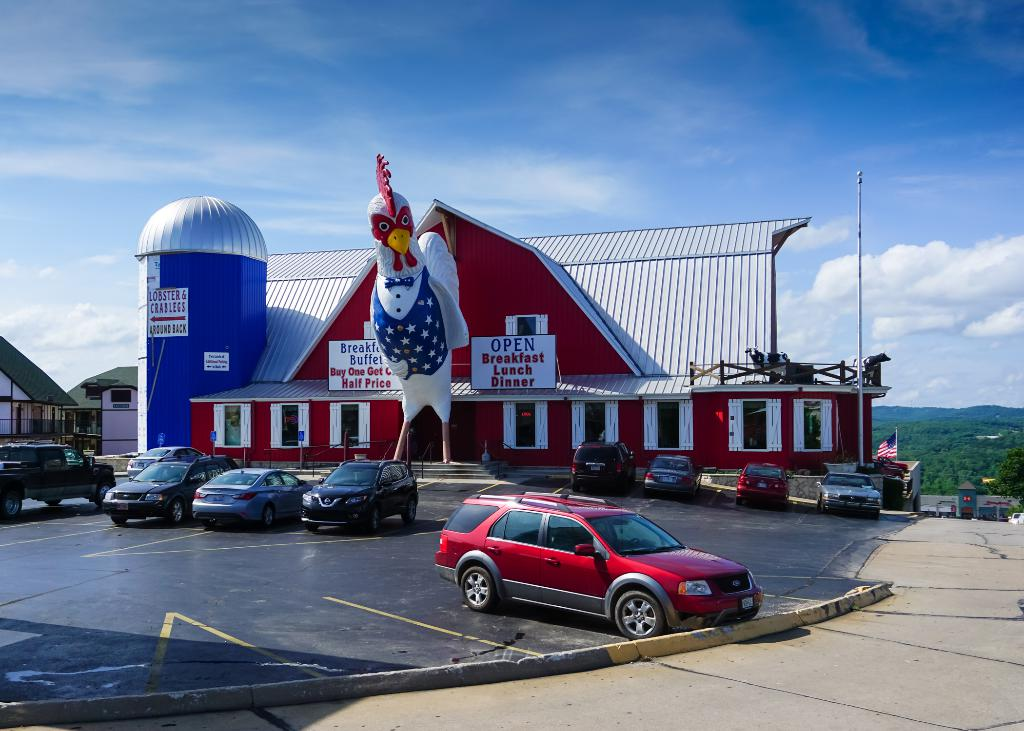Car: (439, 485, 768, 639), (0, 436, 120, 520), (300, 448, 417, 533), (97, 458, 220, 525), (192, 466, 312, 526), (572, 440, 636, 492), (815, 473, 883, 520), (124, 445, 211, 478), (732, 465, 792, 508), (646, 457, 693, 499)
